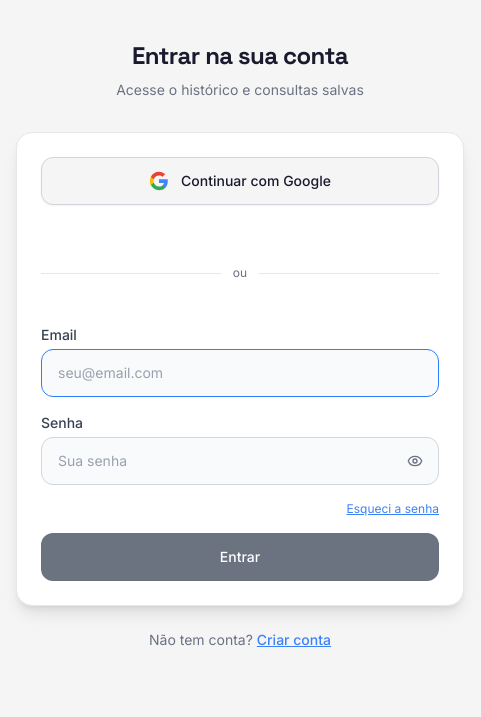
Test: LoginForm › Error Messages (Task 7.5) › shows connection error for network failures
Type "test@example.com" into the field labelled "Email" at coordinates (240, 373), box [41,349,439,397]
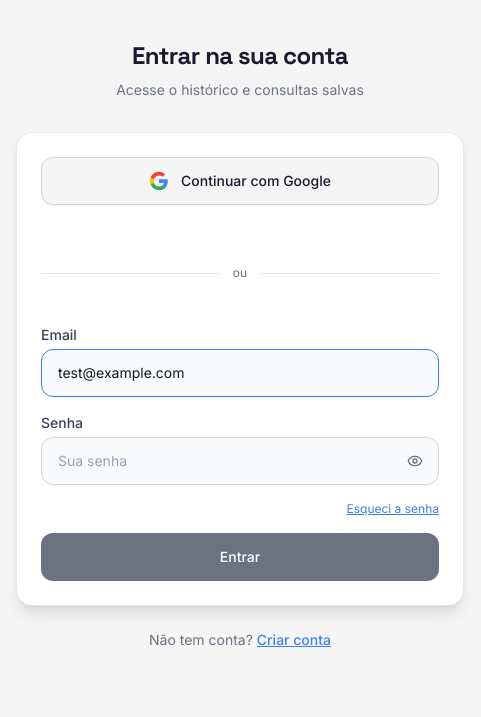
Type "password123" into the password field with id "login-password" at coordinates (240, 461), box [41,437,439,485]
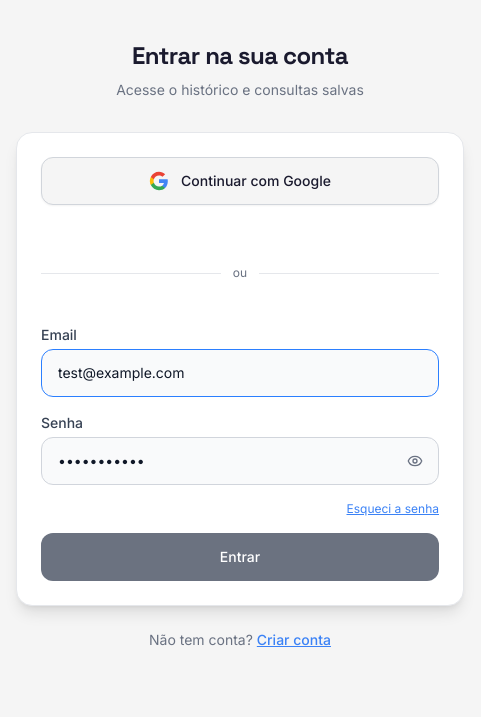
Click the button "Entrar" at coordinates (240, 557), box [41,533,439,581]
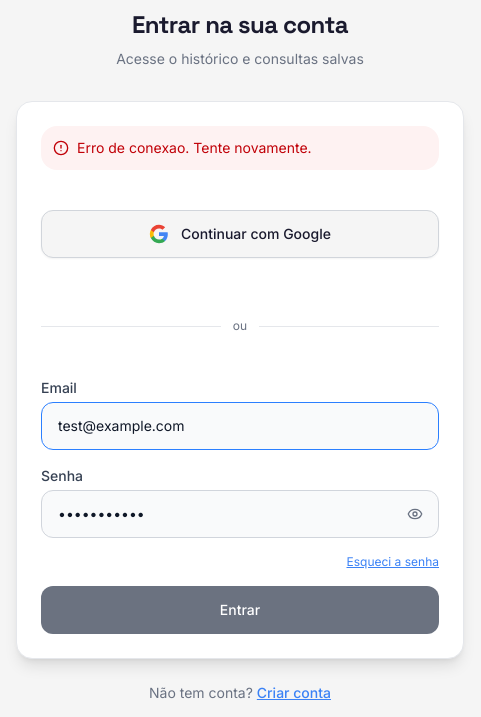
Now the text "Erro de conexao. Tente novamente." is shown, box [77,138,312,158]
